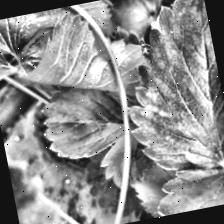Powdery Mildew Leaf: (5, 0, 152, 117)
